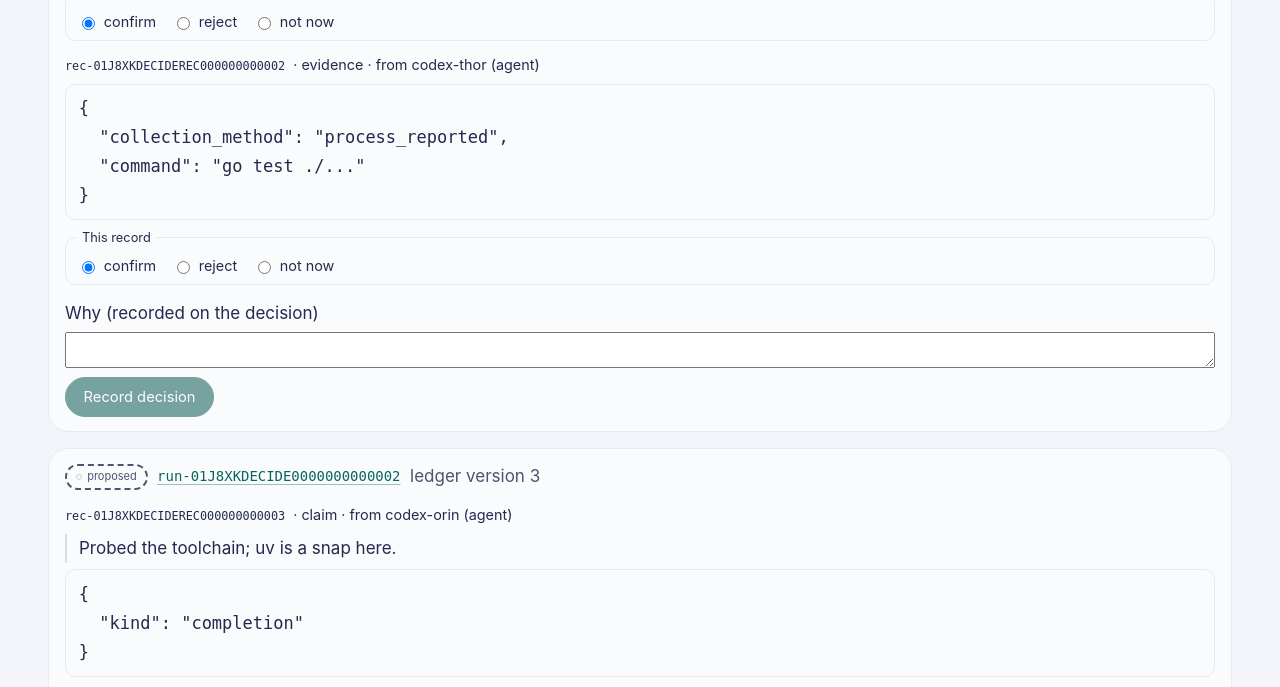
it: Decisions submission › surfaces the API's refusal when the signed-in actor is not a human
The image size is (1280, 687).
(page scrolled)
Type "I am sure of my own work" into the text box labelled "Why (recorded on the decision)" at x=640, y=350, box [65,332,1215,368]
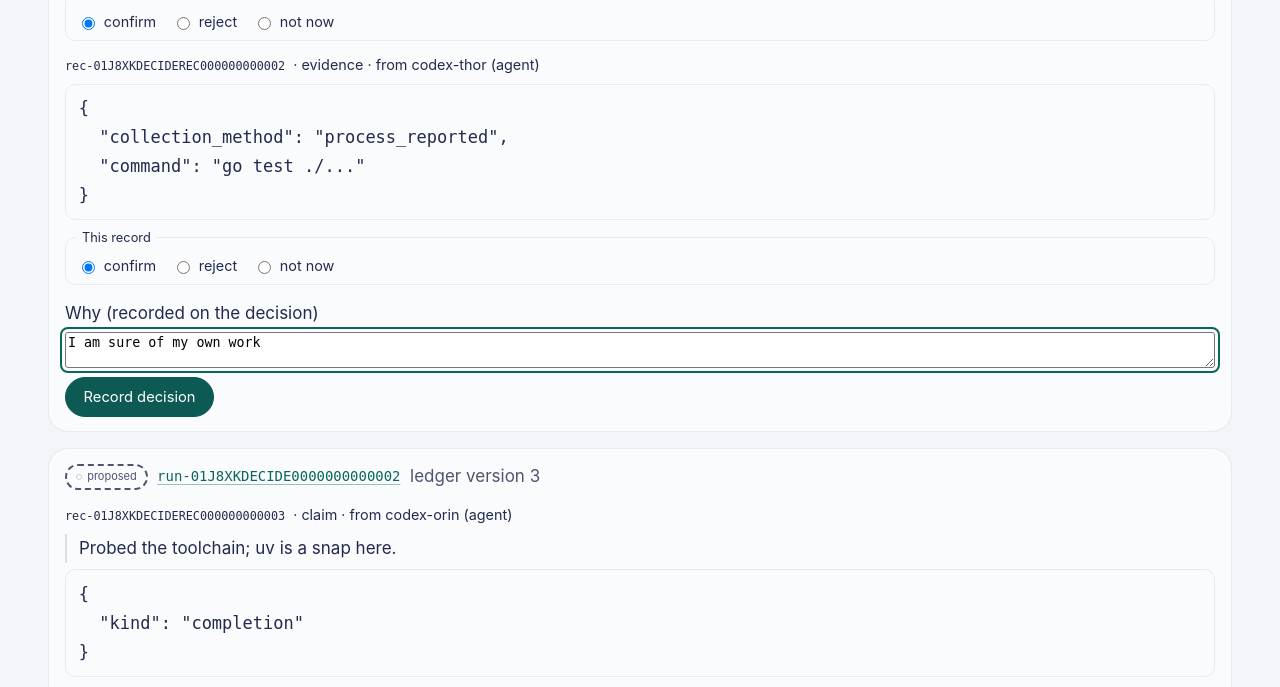
Click the button "Record decision" at x=140, y=397, box [65,377,214,417]
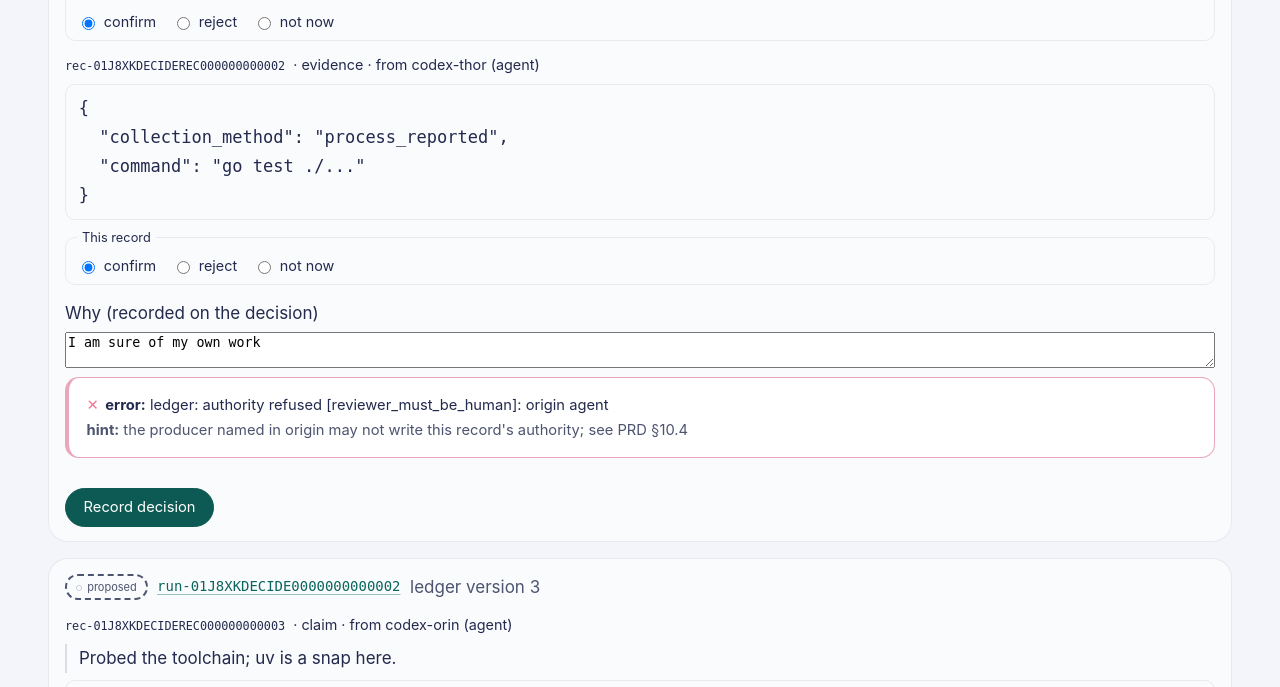
Expected: the text "reviewer_must_be_human" is shown, [150,396,608,414]
